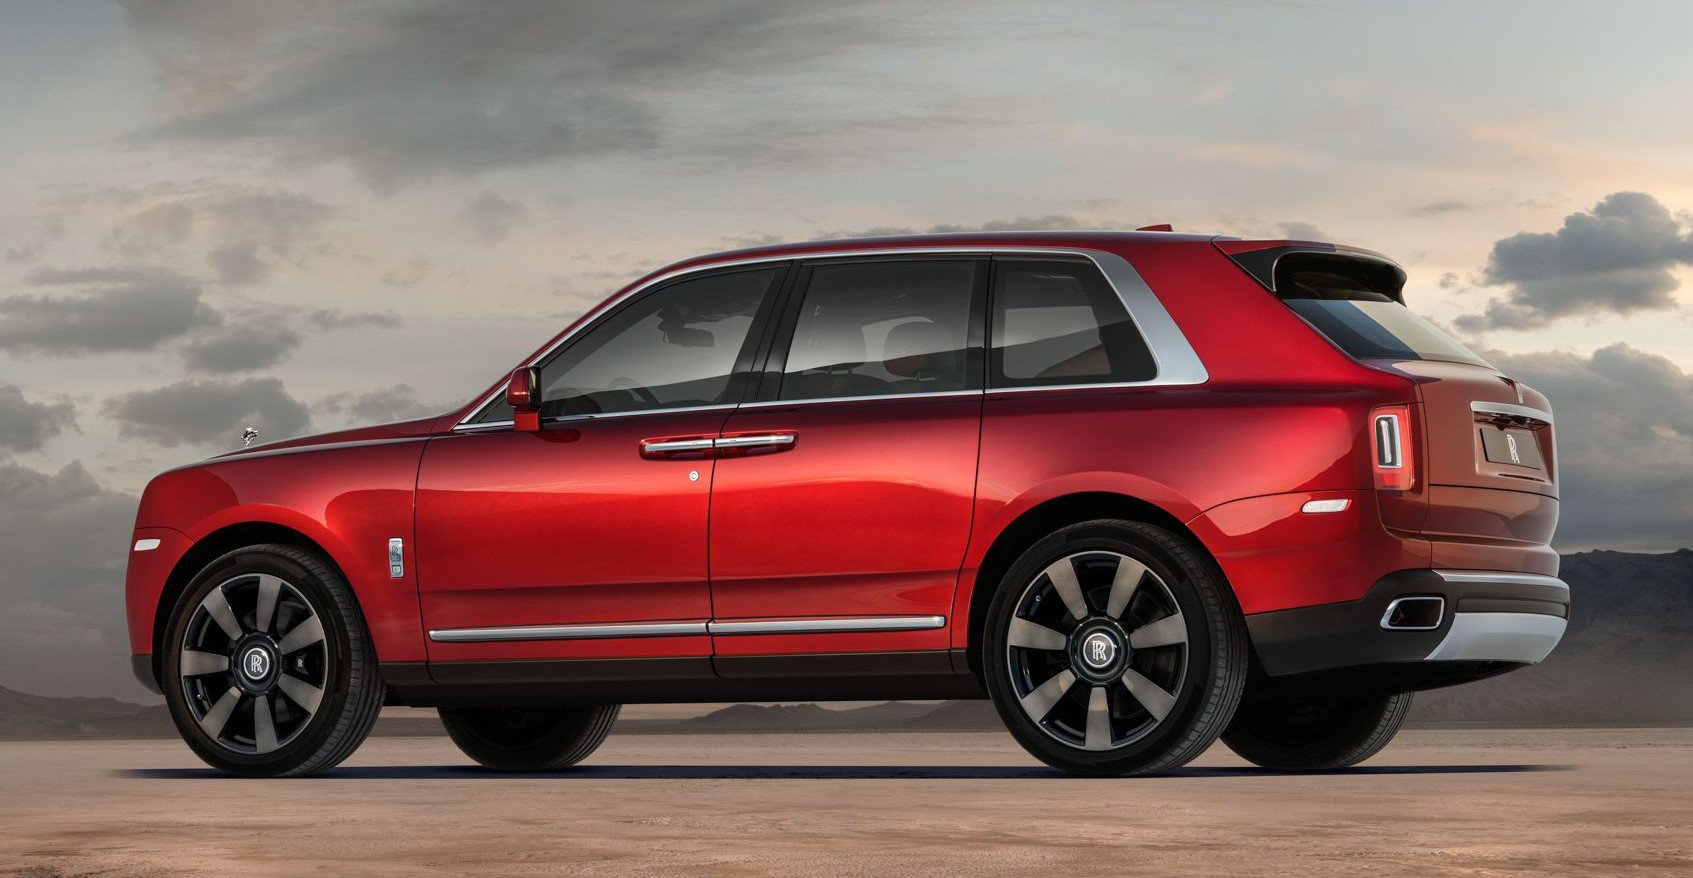car: (127, 226, 1570, 777)
